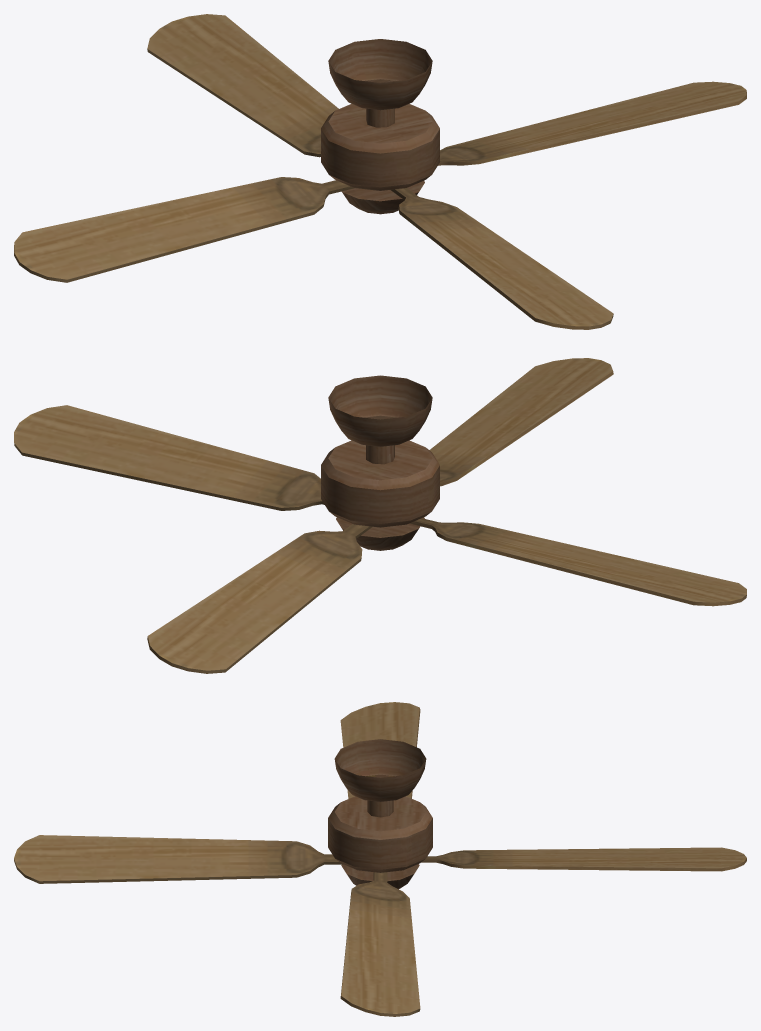
Rendered from Map_Furniture_099.fbx.
3 views of the same model, one above another, from view 1: azimuth 30°, elevation 25°; view 2: azimuth 150°, elevation 25°; view 3: azimuth 270°, elevation 25° (orthographic). The views are drawn at different scales.
Parts seen in each view (by area): view 1: Map_Furniture_099_Propeller, Map_Furniture_099; view 2: Map_Furniture_099_Propeller, Map_Furniture_099; view 3: Map_Furniture_099_Propeller, Map_Furniture_099.
Boxes of the visible parts, x1,y1,x2,y2 form: Map_Furniture_099_Propeller: [14, 14, 746, 329]; Map_Furniture_099: [321, 39, 439, 214]; Map_Furniture_099_Propeller: [14, 358, 746, 673]; Map_Furniture_099: [321, 375, 439, 550]; Map_Furniture_099_Propeller: [14, 702, 746, 1016]; Map_Furniture_099: [328, 739, 432, 889].
Size of the model in its own units: 2.24 by 0.4375 by 2.24.
